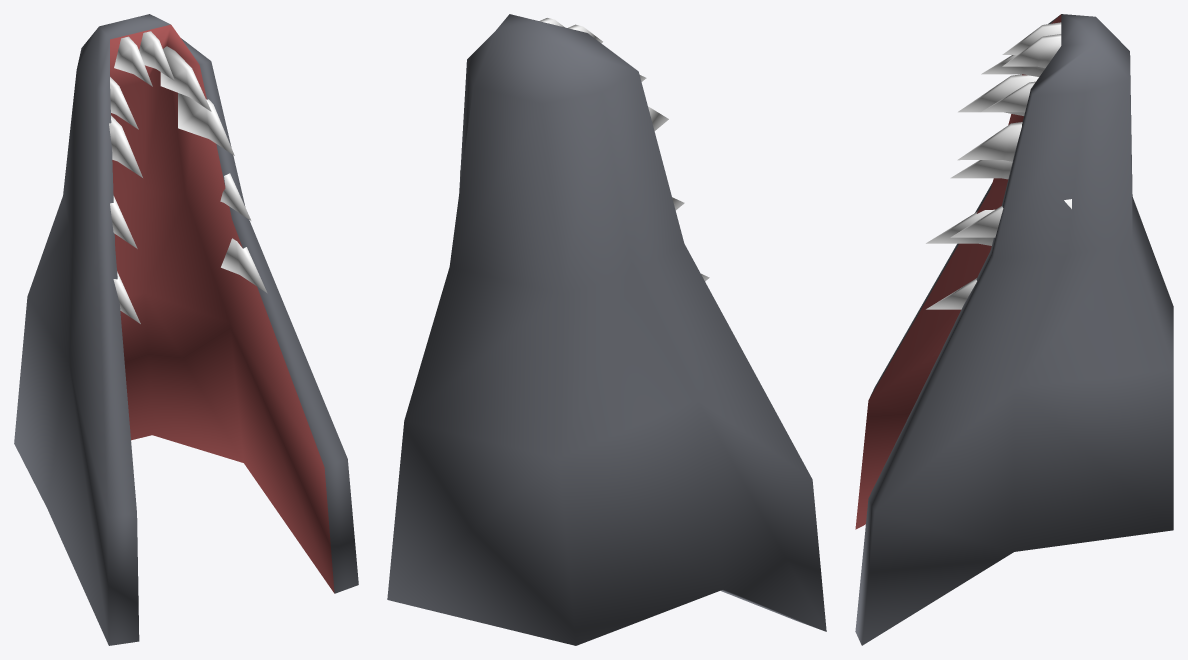
File: Char_FL_Jew.FBX
3 renders of one model, left to right at view 1: azimuth 30°, elevation 25°; view 2: azimuth 150°, elevation 25°; view 3: azimuth 270°, elevation 25°, orthographic. The views are drawn at different scales.
Visible parts, largest first — view 1: Box001; view 2: Box001; view 3: Box001.
Boxes of the visible parts, left/top/right/bottom form: Box001: left=14, top=14, right=358, bottom=645; Box001: left=387, top=14, right=826, bottom=645; Box001: left=855, top=14, right=1173, bottom=645.
Bounding box in the file's own units: 7.46 × 14.91 × 7.69.
